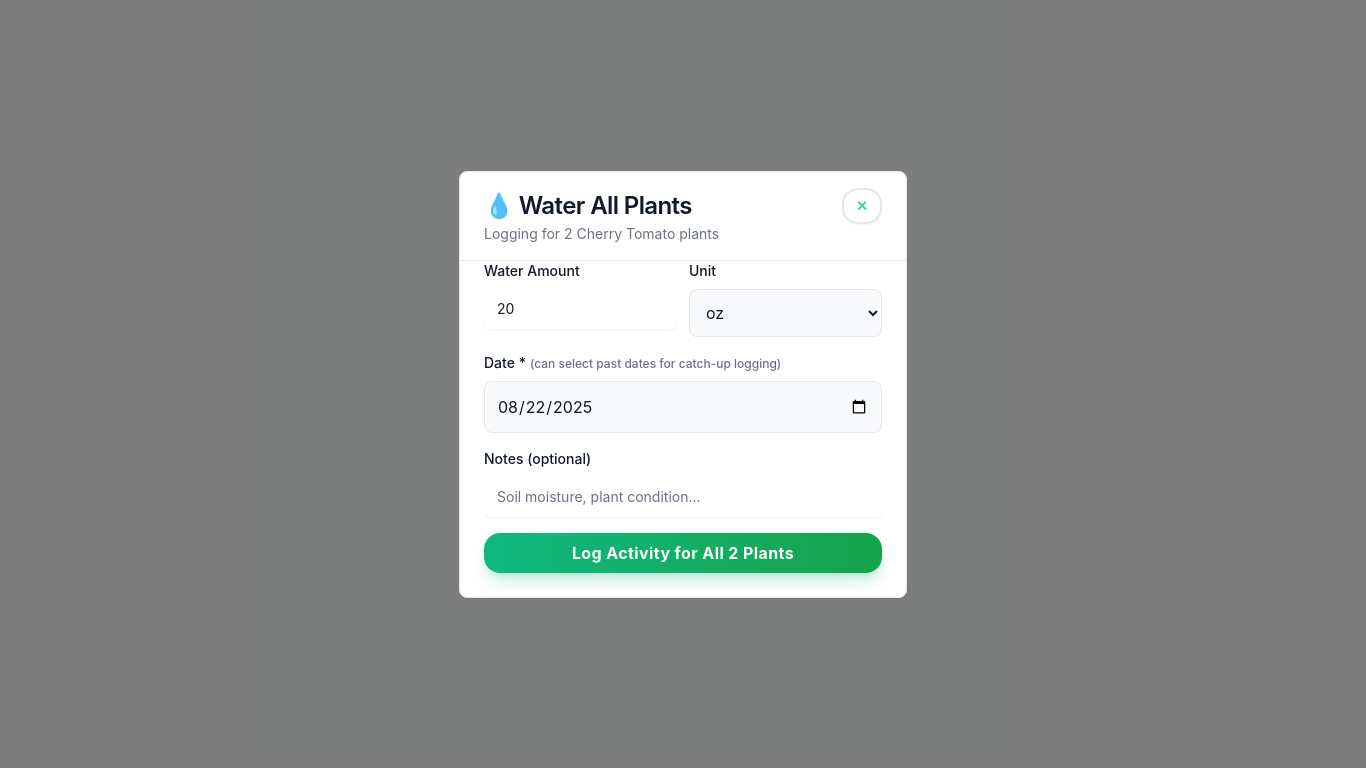
BulkActivityModal › disables submit button while submitting
What coordinates should you click on to do the following:
click the button "Log Activity for All 2 Plants"
I would click on:
 (683, 552)
Its box is [484, 532, 882, 572].
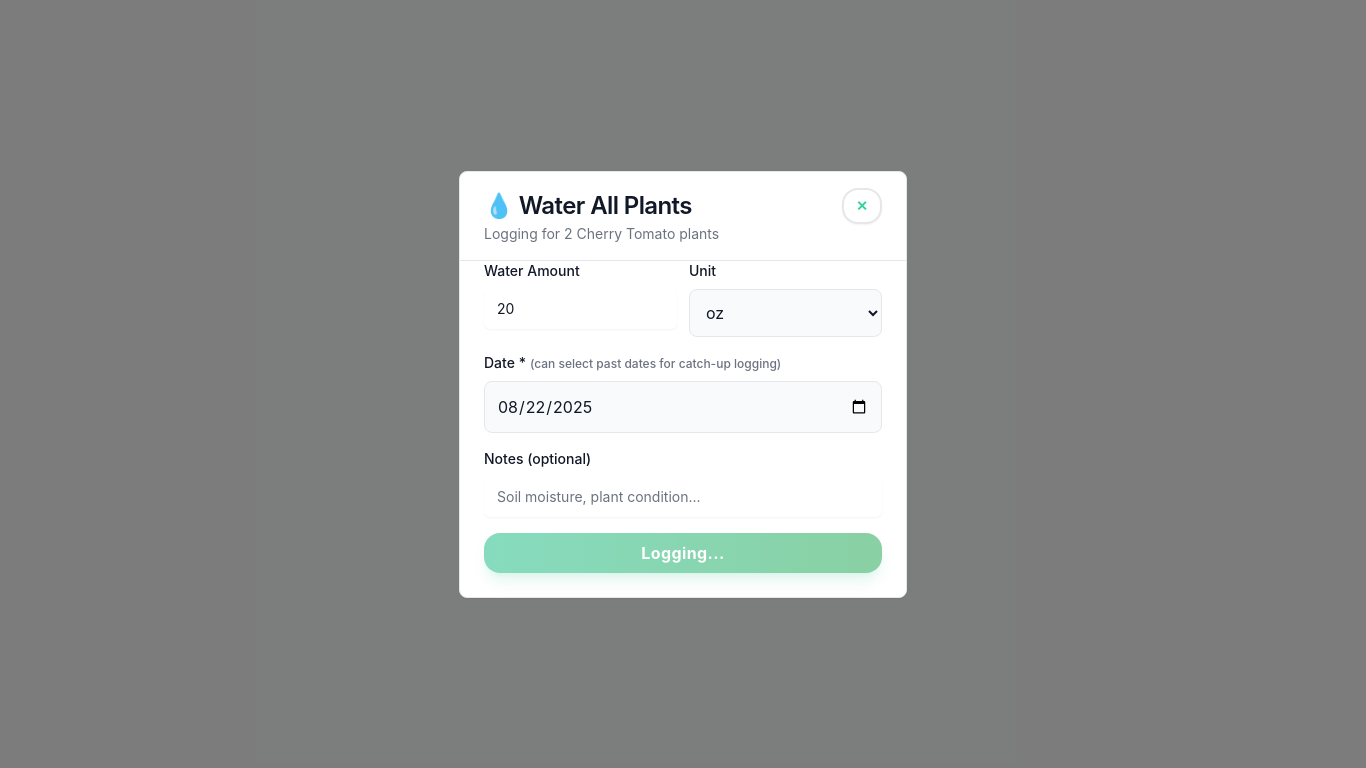
Now the button named "Log Activity" is disabled, box [484, 532, 882, 572]
Now the text "Logging..." is shown, box [641, 540, 725, 564]
